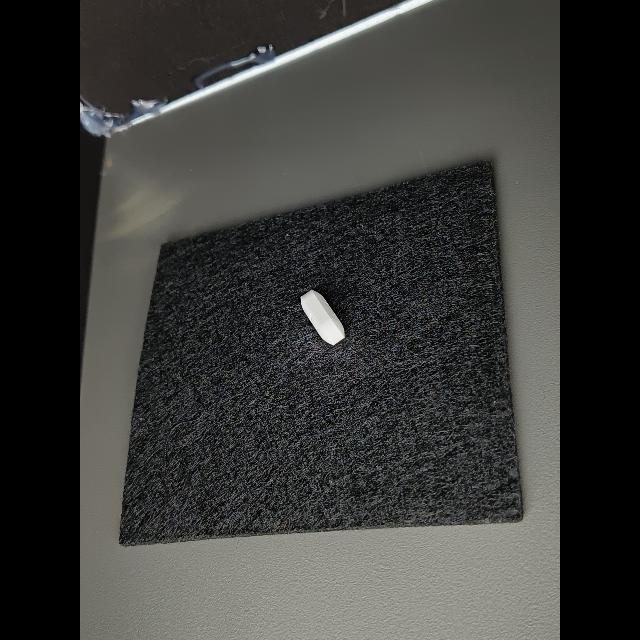Intact Pill: (301, 290, 345, 345)
